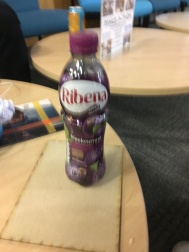bottle_purple: (53, 30, 116, 191)
